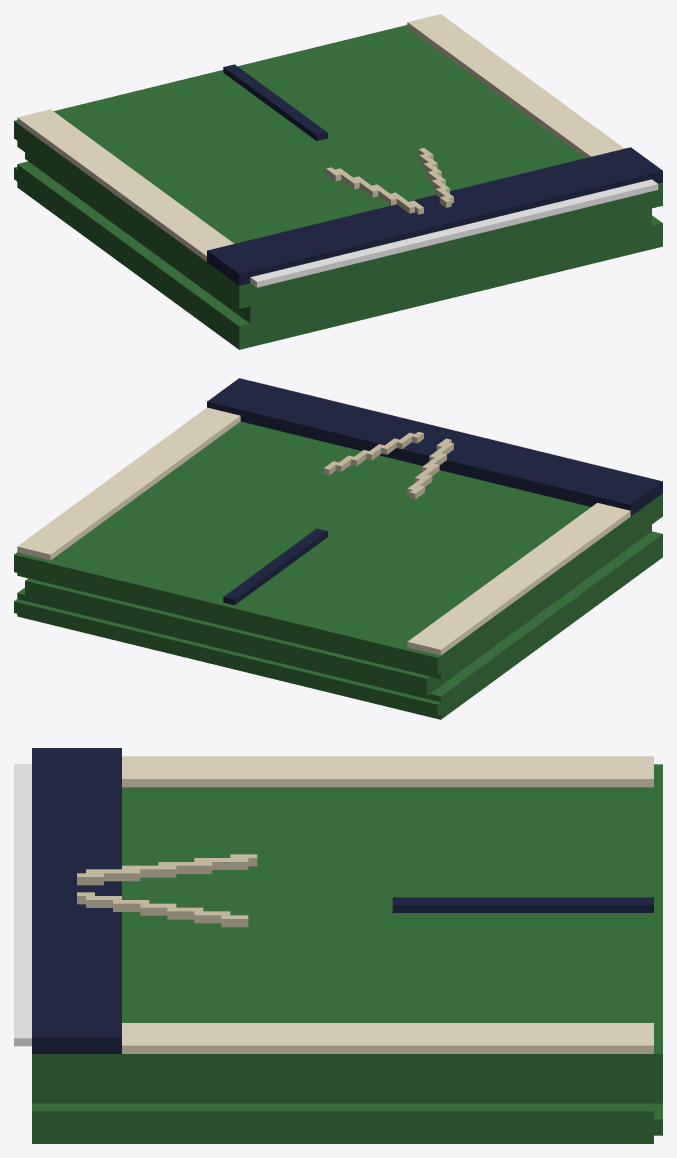
The model's file is trunks.glb.
3 views of the same model, one above another, from view 1: azimuth 30°, elevation 25°; view 2: azimuth 150°, elevation 25°; view 3: azimuth 270°, elevation 25° (orthographic). The views are drawn at different scales.
Visible parts, largest first — view 1: trunks:compound; view 2: trunks:compound; view 3: trunks:compound.
Boxes of the visible parts, x1,y1,x2,y2 form: trunks:compound: (14,14,662,349); trunks:compound: (14,378,662,719); trunks:compound: (14,748,662,1143).
Bounding box in the file's own units: 0.304 × 0.056 × 0.288.
